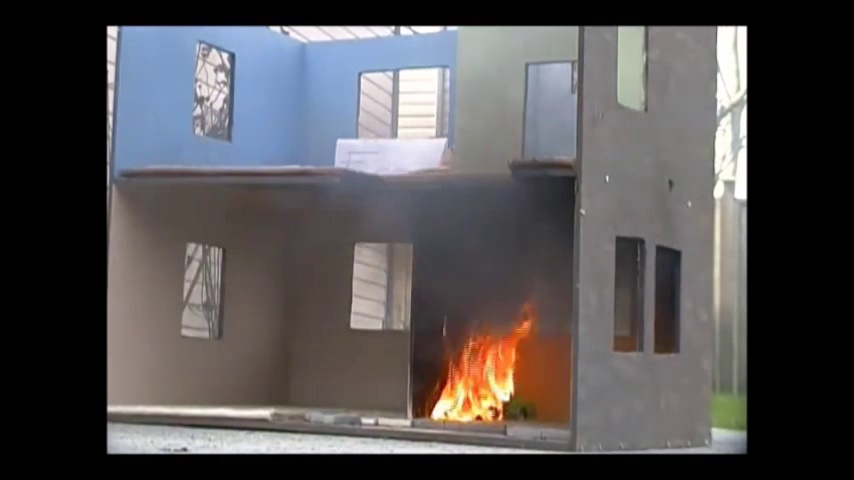fire: (435, 324, 515, 422)
